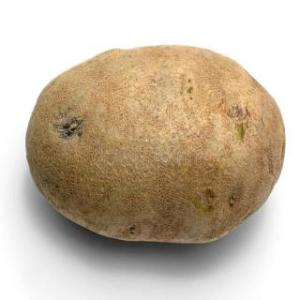potato: (26, 46, 284, 244)
